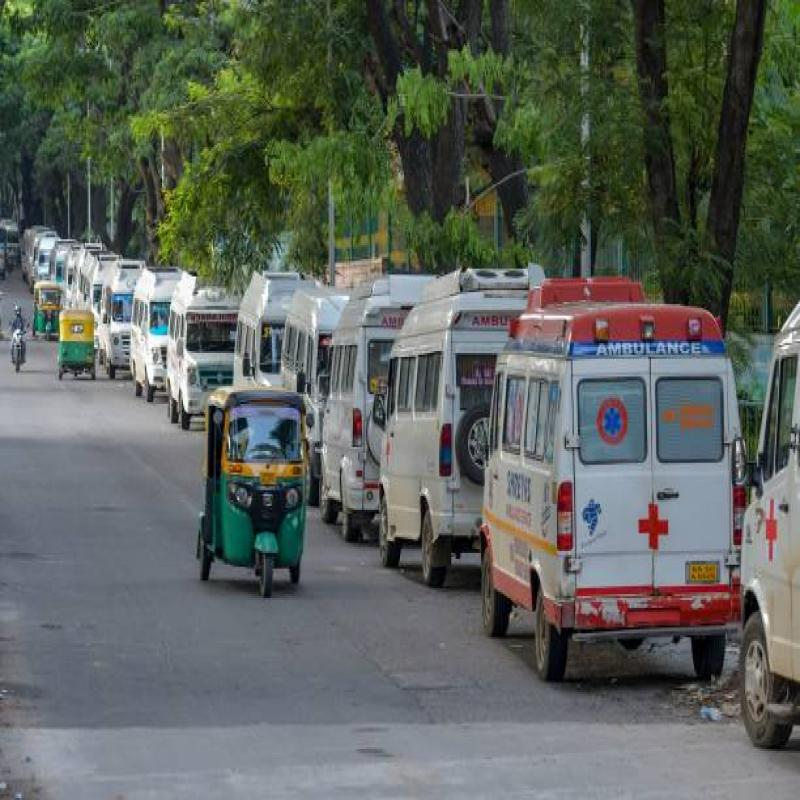ambulance: (490, 269, 746, 669)
